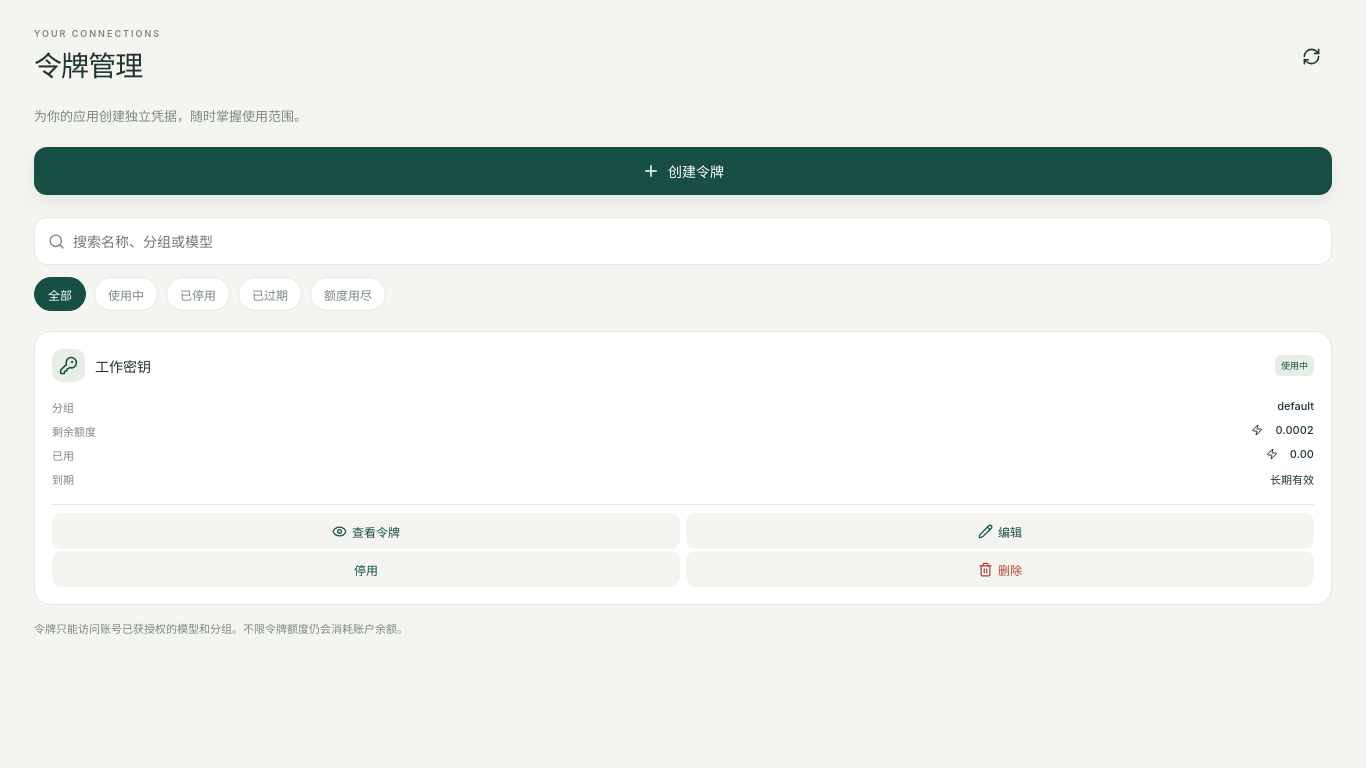
it: filters the token list locally by name
Expected: the text "工作密钥" is shown, [95, 358, 151, 375]
Type "不存在" into the field named "搜索令牌".
click(699, 241); type("不存在")  # box [73, 222, 1325, 260]
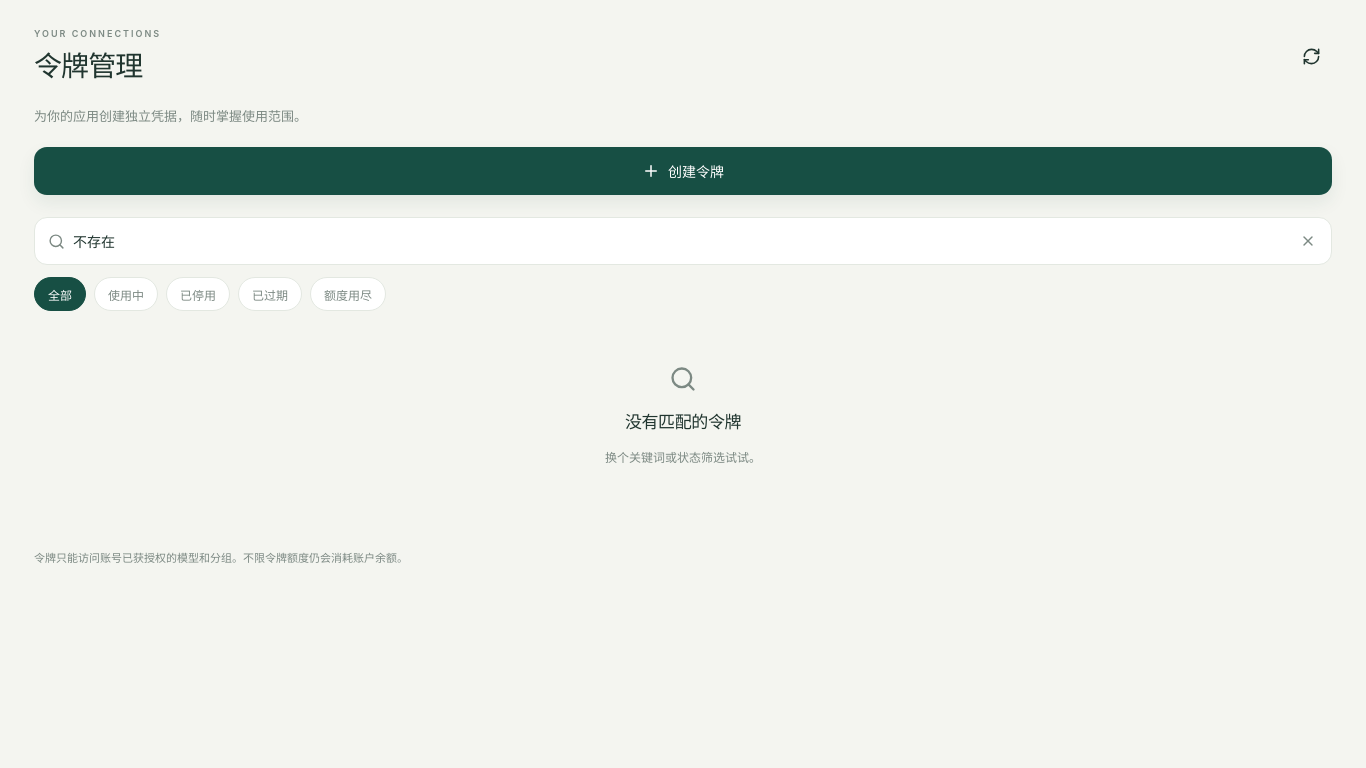
Expected: the text "工作密钥" is gone
Expected: the heading "没有匹配的令牌" is shown, [625, 408, 741, 433]
